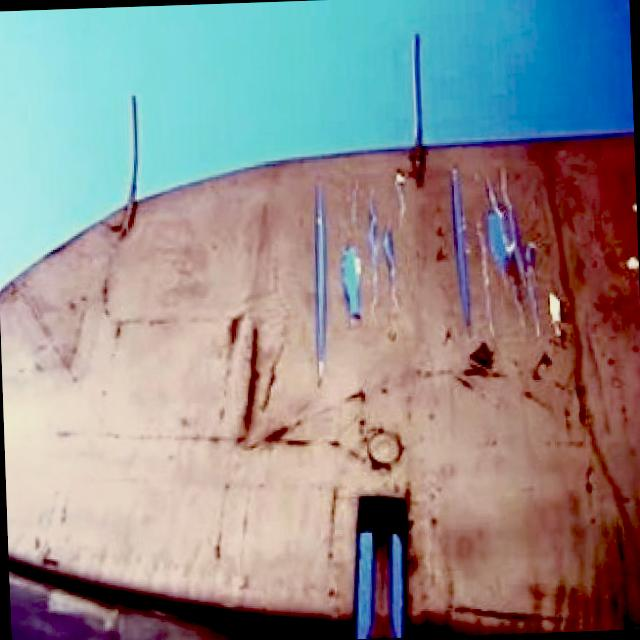crack: (300, 160, 548, 394)
